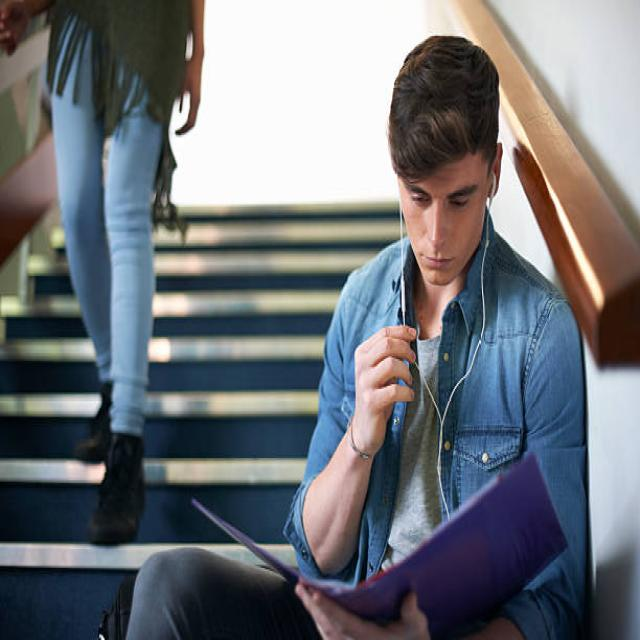Earphone: (394, 169, 498, 495)
